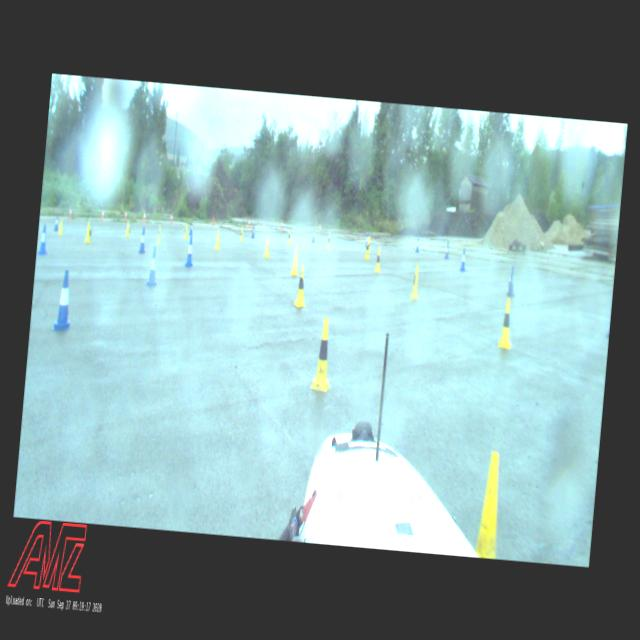blue_cone: (52, 268, 76, 330), (144, 244, 160, 286), (36, 223, 50, 254), (184, 236, 195, 267), (506, 265, 517, 296), (138, 226, 148, 252), (459, 247, 467, 271), (443, 241, 450, 259), (414, 236, 420, 252), (53, 216, 59, 230), (250, 226, 256, 238), (311, 228, 316, 242), (364, 233, 368, 247), (189, 223, 193, 234)
orange_cone: (142, 210, 146, 222), (100, 208, 104, 218), (124, 210, 127, 220), (170, 214, 173, 222), (280, 220, 282, 230)
yellow_cone: (475, 450, 505, 558), (309, 316, 336, 392), (496, 296, 514, 348), (292, 264, 310, 309), (408, 264, 422, 300), (289, 244, 300, 276), (373, 246, 382, 272), (84, 220, 92, 243), (262, 235, 270, 257), (364, 236, 371, 260), (214, 229, 221, 250), (156, 224, 162, 244), (326, 232, 332, 250), (58, 218, 64, 235), (238, 226, 244, 242), (124, 220, 130, 236), (286, 229, 291, 245), (183, 223, 188, 239)
